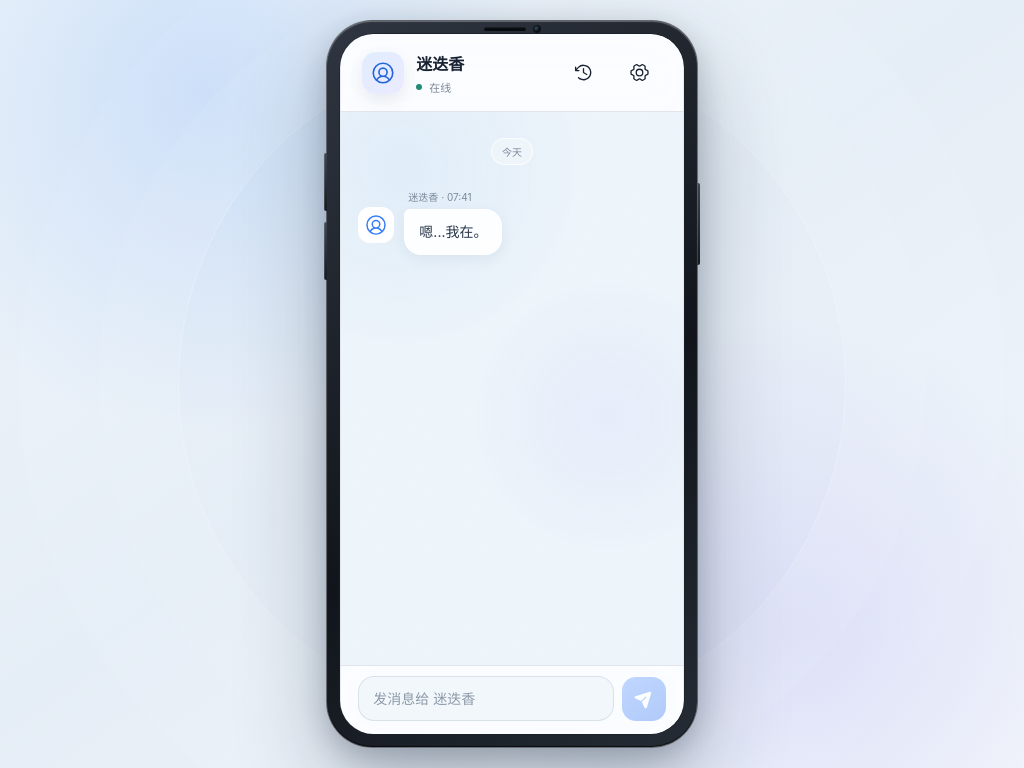
Test: SillyTavern character chat app › sends immediately through the managed endpoint without exposing the built-in character card
The image size is (1024, 768).
Click the button named "打开管理中心" at (640, 72), box [618, 50, 662, 94]
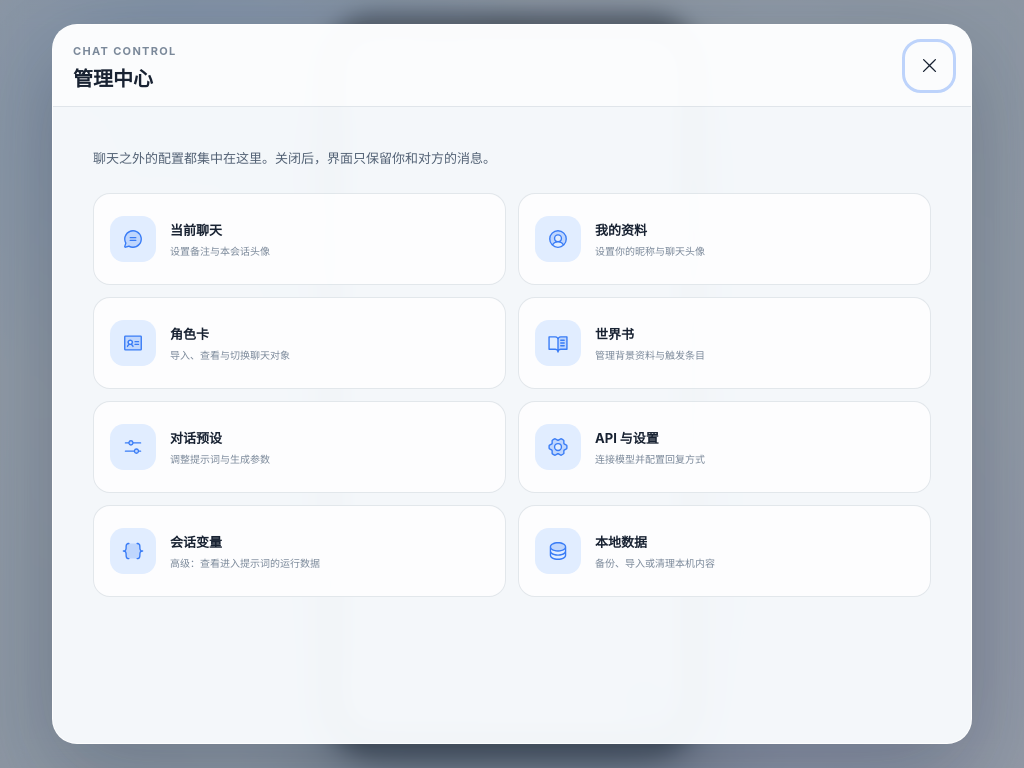
Click the button "当前聊天 设置备注与本会话头像" at (133, 239), box [93, 193, 506, 285]
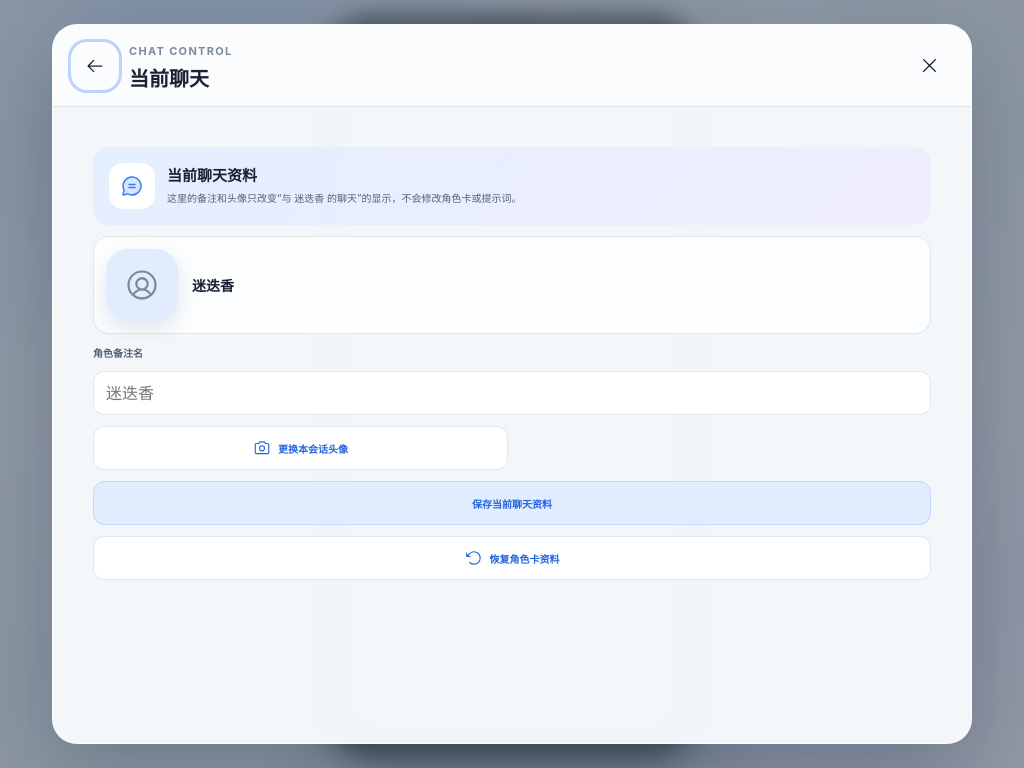
Type "小迷" into the field labelled "角色备注名" at (512, 393), box [93, 371, 931, 415]
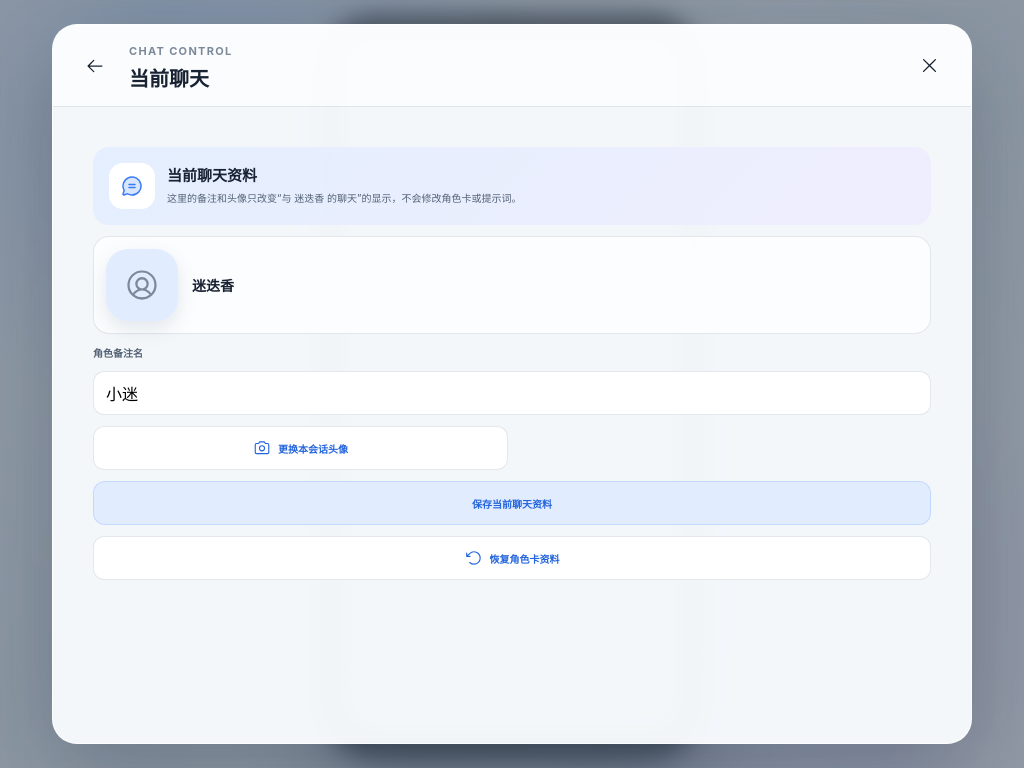
Click the button "保存当前聊天资料" at (512, 503), box [93, 481, 931, 525]
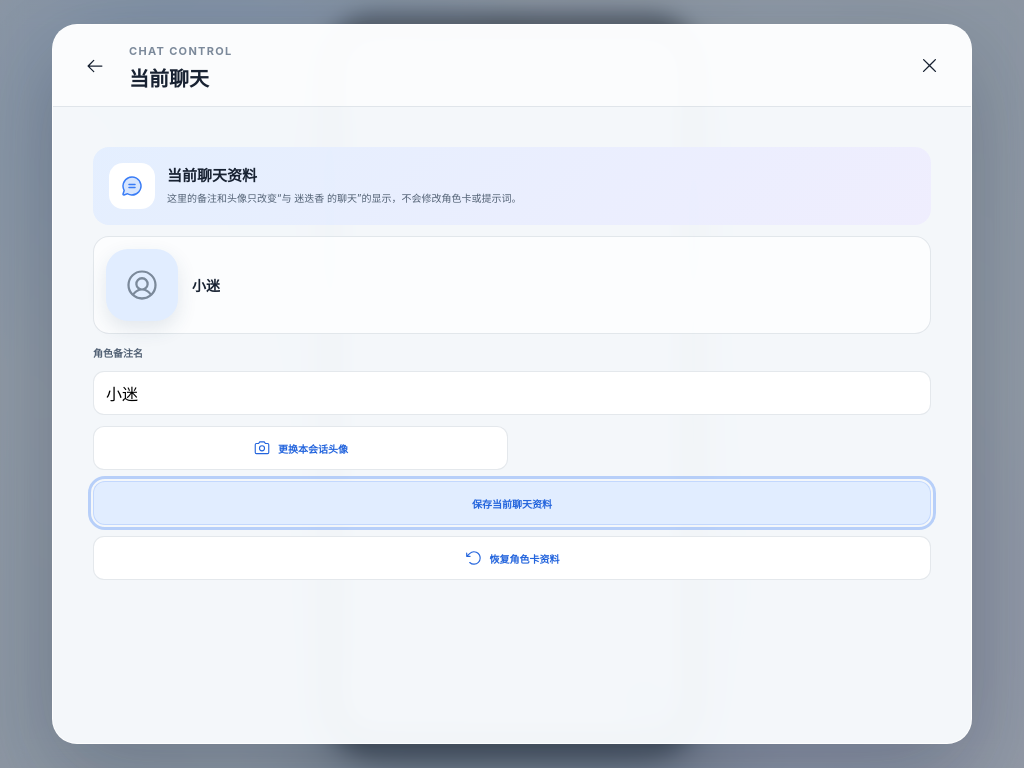
Click the button named "关闭当前聊天" at (929, 66), box [907, 44, 951, 88]
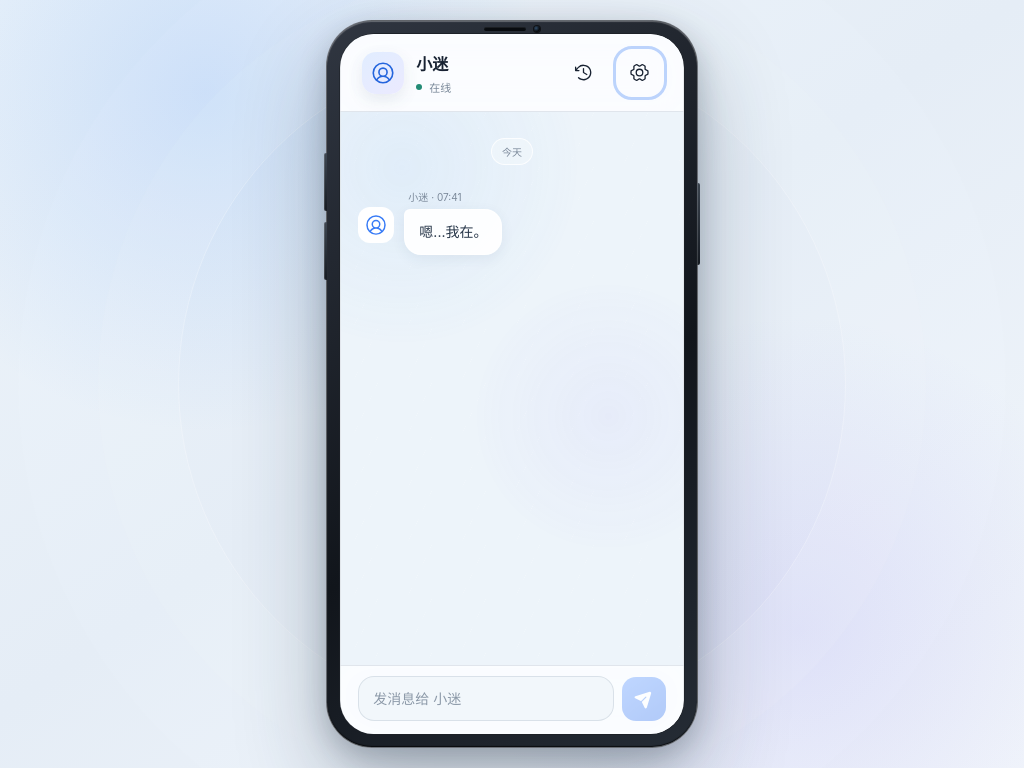
Expected: the heading "小迷" is shown, [416, 50, 448, 74]
Type "你好" into the text box named "输入聊天消息" at (486, 698), box [358, 676, 614, 721]
Then press Enter
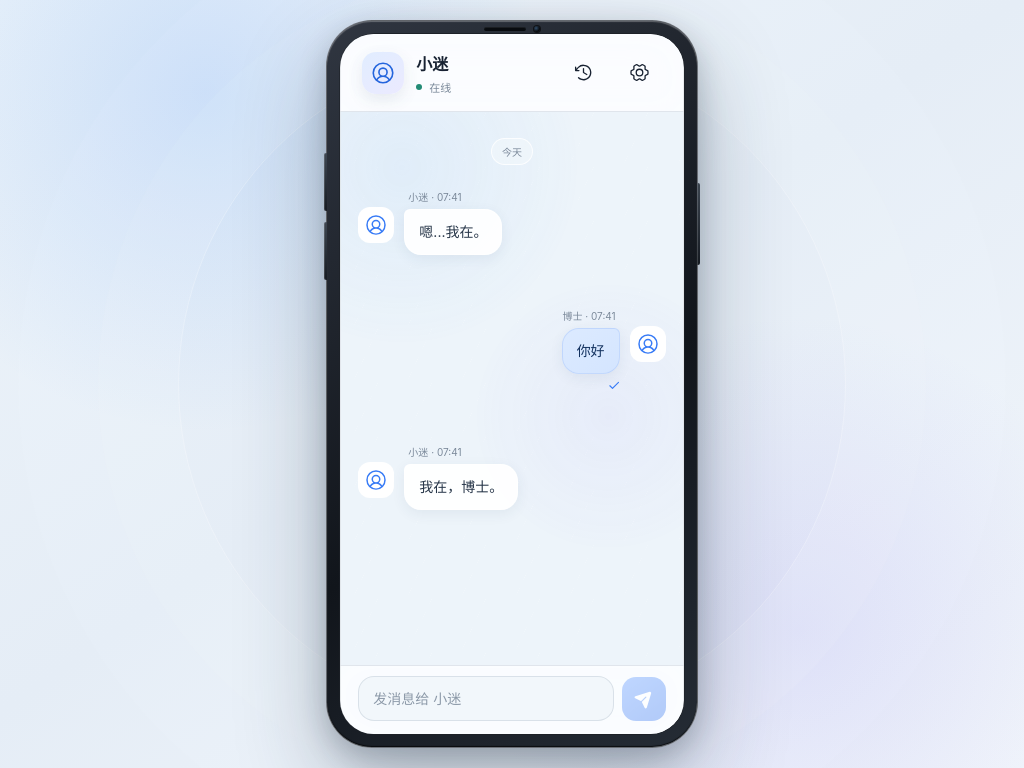
Expected: the text "我在，博士。" is shown, [419, 478, 503, 495]
